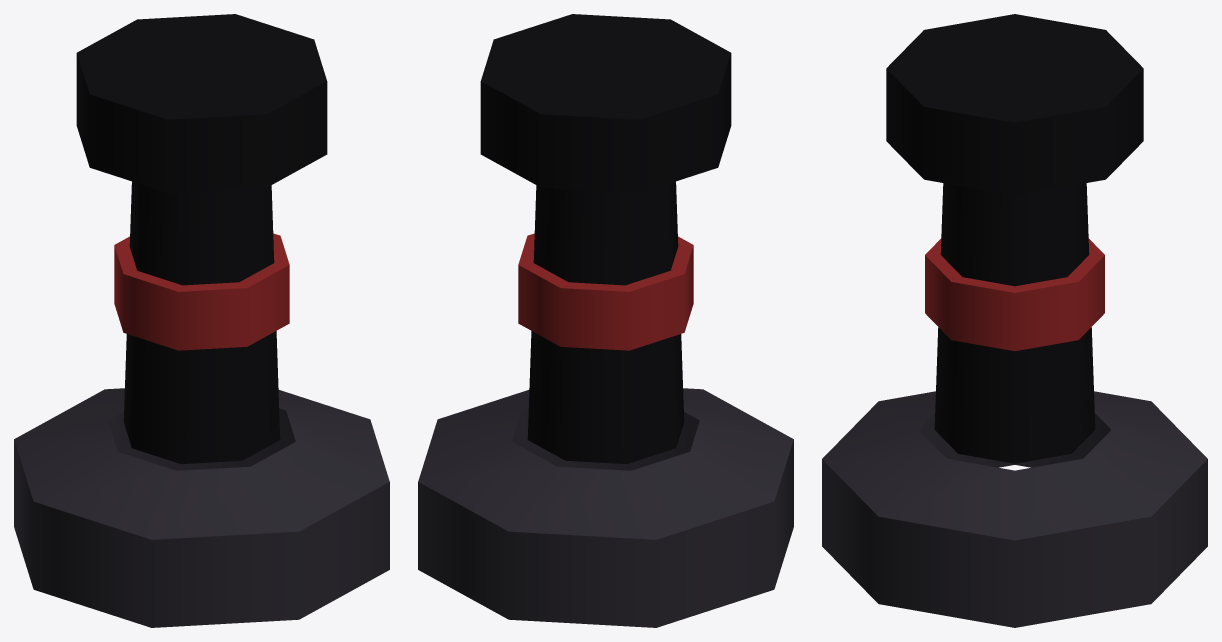
Rendered from t1_antenna.obj.
3 views of the same model, side by side, from view 1: azimuth 30°, elevation 25°; view 2: azimuth 150°, elevation 25°; view 3: azimuth 270°, elevation 25° (orthographic).
Parts seen in each view (by area): view 1: t1_antenna; view 2: t1_antenna; view 3: t1_antenna.
Part boxes in pixels (x1,y1,x2,y2): t1_antenna: (14, 14, 389, 627); t1_antenna: (418, 14, 793, 627); t1_antenna: (822, 14, 1207, 627).
Size of the model in its own units: 0.12 by 0.164 by 0.12.
